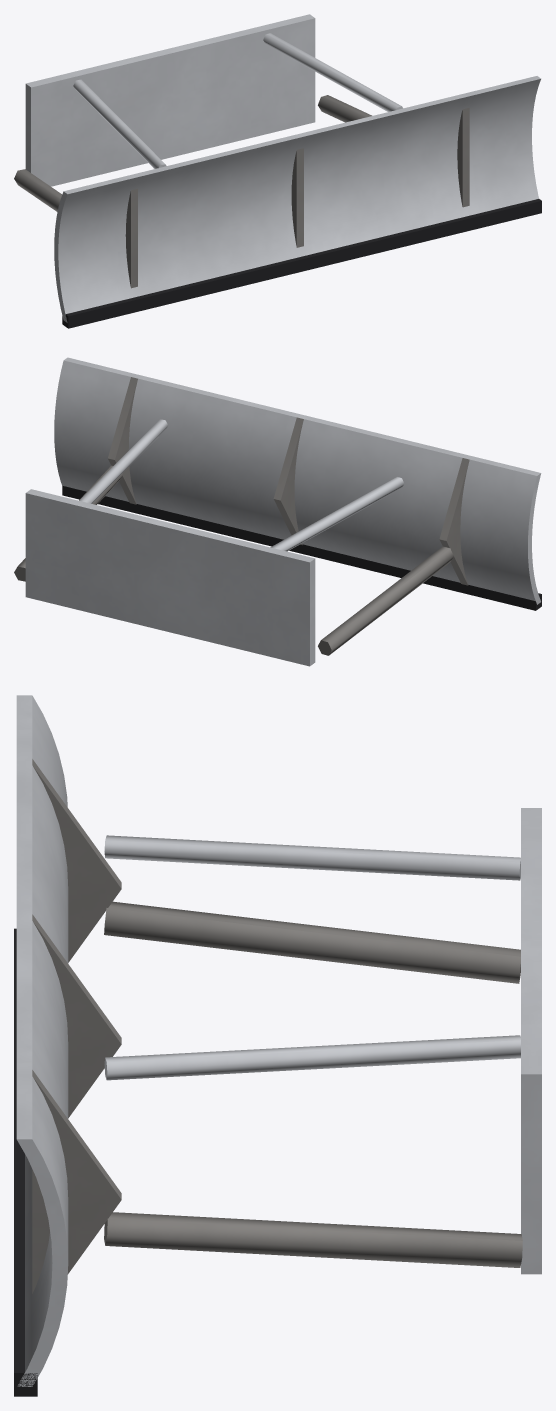
File: rover32_dozer_scoop_m.glb
The picture shows the model from 3 angles, top to bottom: view 1: azimuth 30°, elevation 25°; view 2: azimuth 150°, elevation 25°; view 3: azimuth 270°, elevation 25°; orthographic projection. The views are drawn at different scales.
Parts seen in each view (by area): view 1: blade, mount_plate, blade_edge, arm_rams, blade_ribs, arm_push; view 2: blade, mount_plate, blade_ribs, blade_edge, arm_push, arm_rams; view 3: arm_push, blade, arm_rams, blade_ribs, mount_plate, blade_edge.
Part boxes in pixels (x1,y1,x2,y2): blade: (54, 76, 540, 322); mount_plate: (25, 14, 315, 186); blade_edge: (62, 199, 541, 328); arm_rams: (73, 33, 402, 168); blade_ribs: (125, 108, 469, 288); arm_push: (14, 95, 372, 211); blade: (54, 357, 541, 604); mount_plate: (25, 489, 315, 666); blade_ribs: (108, 377, 469, 585); blade_edge: (62, 486, 541, 610); arm_push: (14, 465, 453, 655); arm_rams: (79, 419, 404, 551); arm_push: (104, 901, 522, 1267); blade: (16, 695, 68, 1386); arm_rams: (104, 835, 520, 1080); blade_ribs: (32, 759, 121, 1293); mount_plate: (521, 808, 541, 1274); blade_edge: (14, 928, 37, 1396).
Size of the model in its own units: 2 by 0.5403 by 1.
3 materials, 2 textured.
